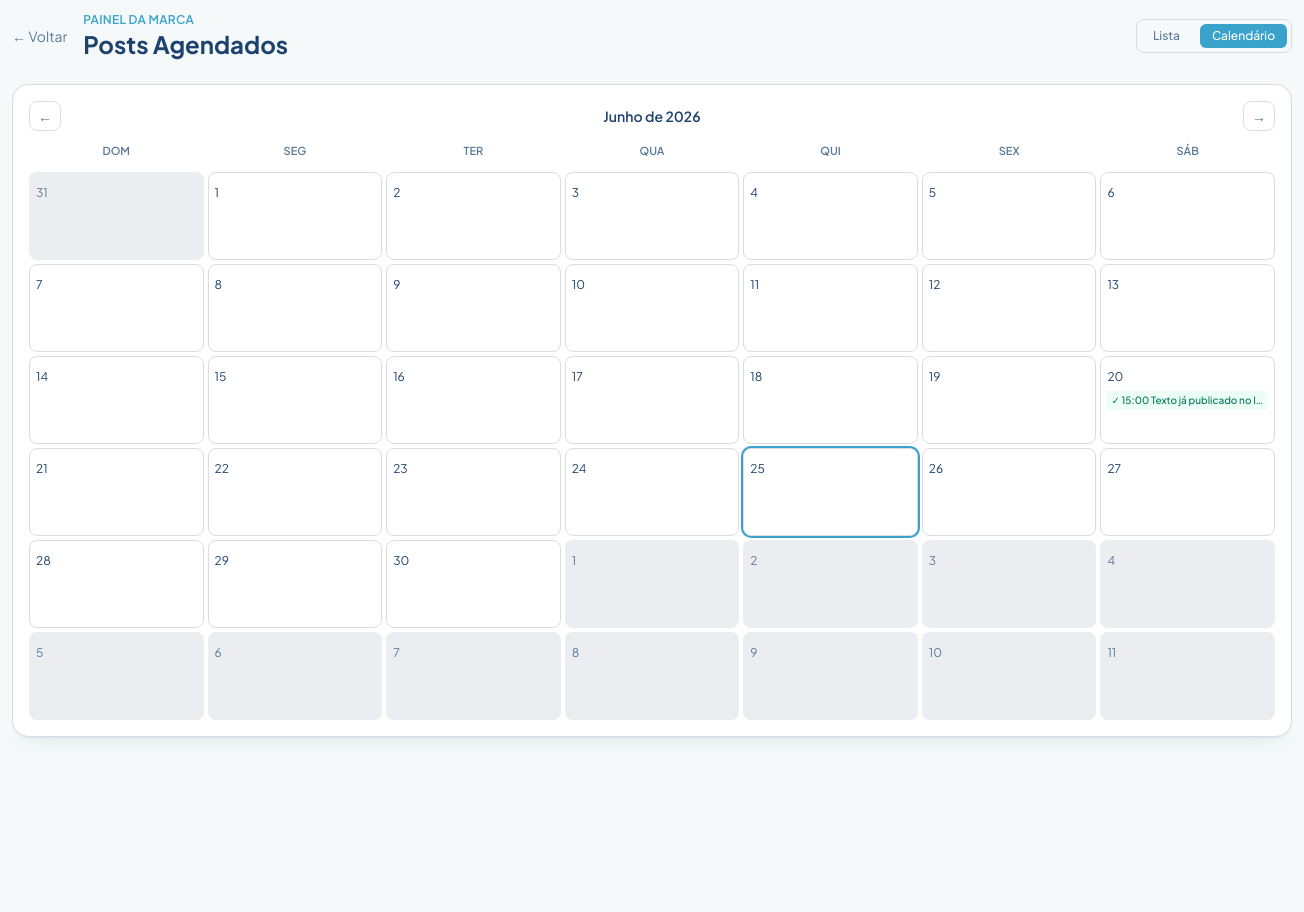
it: ScheduledPostsPage › posts publicados › mostra os posts publicados numa seção própria, com badge e ação de repostar
Click the button "Lista". click: (1166, 36)
box: [1141,24,1192,48]
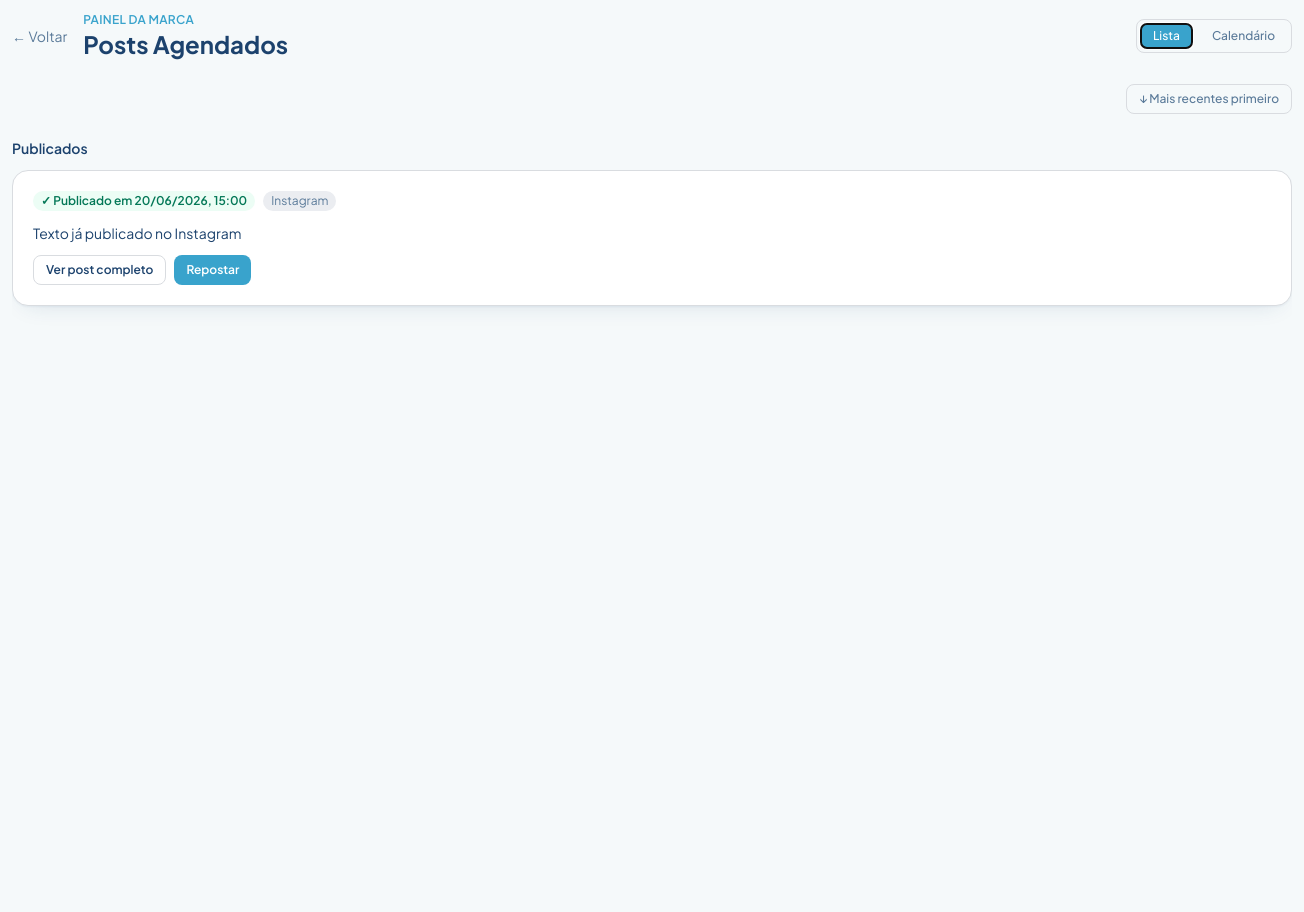
Check: the heading "Publicados" is shown, box [12,139,88,157]
Check: the text "✓ Publicado em 20/06/2026, 15:00" is shown, box [33,191,255,211]
Check: the button "Repostar" is shown, box [174,255,251,285]
